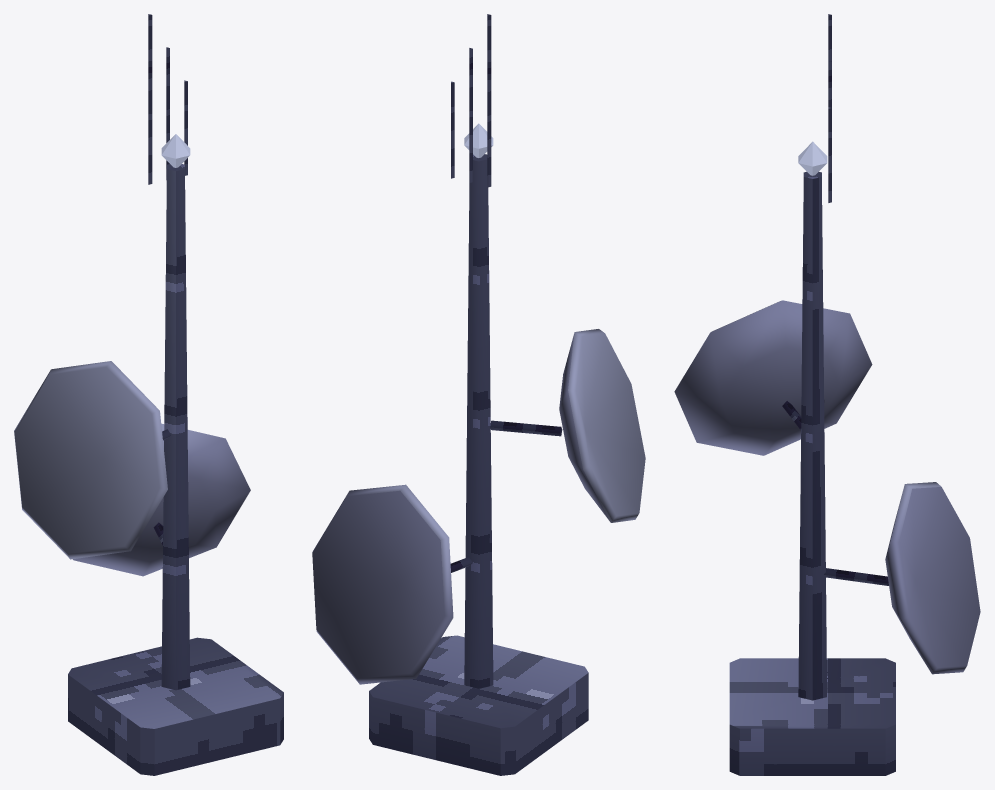
Rendered from cytech.antenna.glb.
The picture shows the model from 3 angles, left to right: view 1: azimuth 30°, elevation 25°; view 2: azimuth 150°, elevation 25°; view 3: azimuth 270°, elevation 25°; orthographic projection.
Visible parts, largest first — view 1: kit_mast, kit_beacon; view 2: kit_mast; view 3: kit_mast, kit_beacon.
Boxes of the visible parts, left/top/right/bottom form: kit_mast: left=14, top=14, right=283, bottom=775; kit_beacon: left=161, top=134, right=190, bottom=167; kit_mast: left=312, top=14, right=645, bottom=775; kit_mast: left=674, top=14, right=980, bottom=775; kit_beacon: left=798, top=141, right=827, bottom=175.
Size of the model in its own units: 1.47 by 3.8 by 1.47.
Materials: 5 (4 with a texture image).
